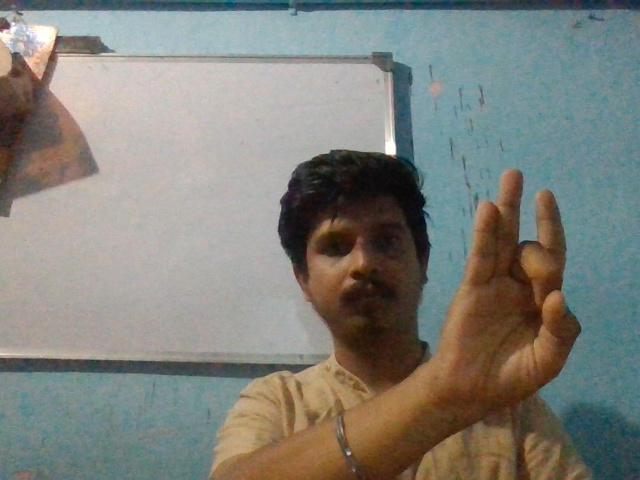Akash: (428, 161, 593, 411)
